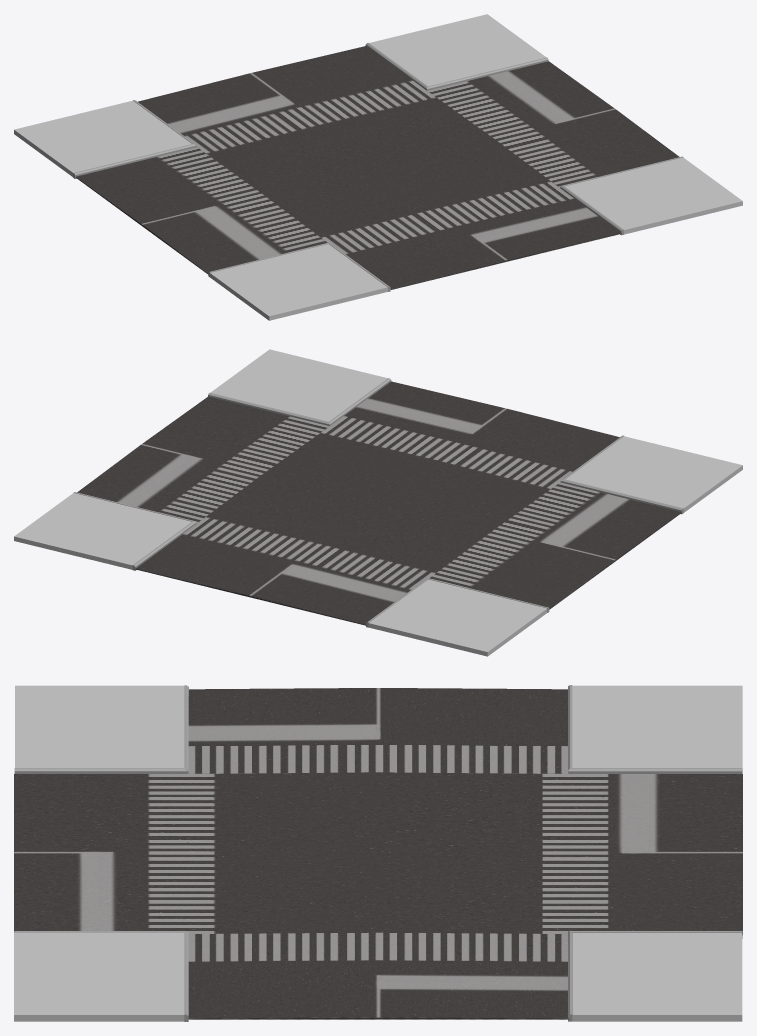
Rendered from intersection.fbx.
The picture shows the model from 3 angles, top to bottom: view 1: azimuth 30°, elevation 25°; view 2: azimuth 150°, elevation 25°; view 3: azimuth 270°, elevation 25°; orthographic projection. The views are drawn at different scales.
Visible parts, largest first — view 1: Road, Road4, side_walk6 (×4), curb1, curb; view 2: Road, Road4, side_walk6 (×4), curb, curb1; view 3: Road, Road4, side_walk6 (×4), curb, curb1.
Boxes of the visible parts, x1,y1,x2,y2 form: Road: (138,46,621,289); Road4: (75,61,679,274); side_walk6 (×4): (14,14,742,320); curb1: (73,144,196,178); curb: (427,57,548,90); Road: (135,381,619,625); Road4: (77,396,681,609); side_walk6 (×4): (14,349,742,656); curb: (560,479,683,514); curb1: (208,392,329,426); Road: (14,772,742,934); Road4: (188,688,569,1019); side_walk6 (×4): (14,685,742,1021); curb: (568,768,742,773); curb1: (14,768,188,773).
Bounding box in the file's own units: 12.84 × 0.1319 × 12.
